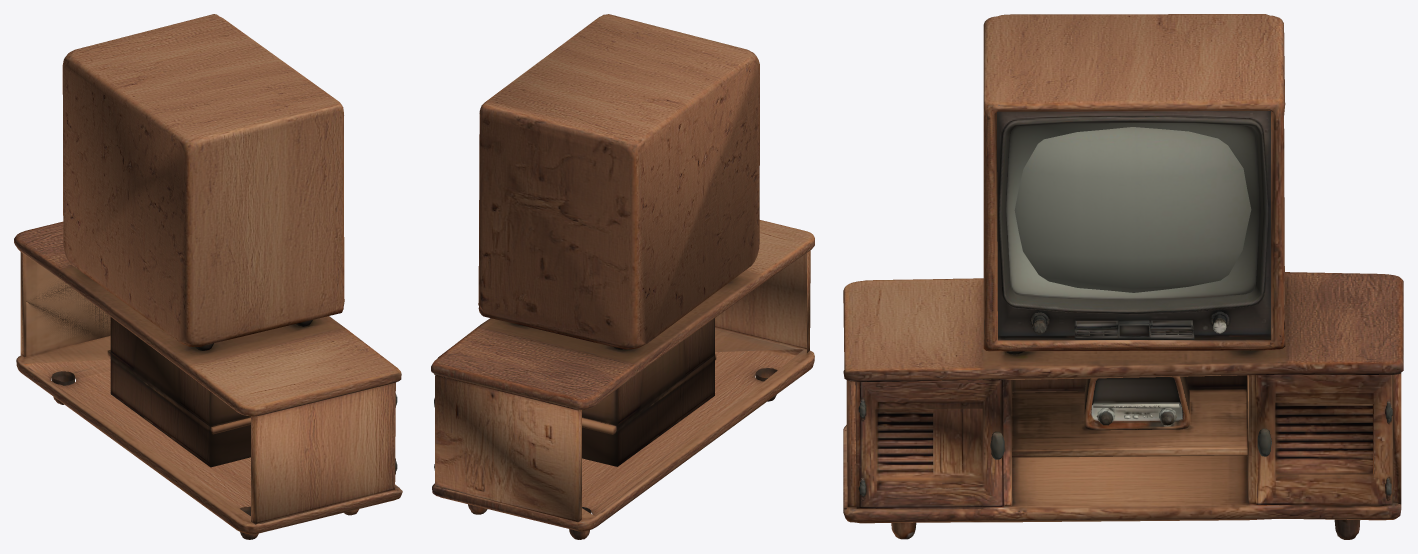
The model's file is prop-tv-console-v01.glb.
3 views of the same model, side by side, from view 1: azimuth 30°, elevation 25°; view 2: azimuth 150°, elevation 25°; view 3: azimuth 270°, elevation 25° (orthographic). The views are drawn at different scales.
Visible parts, largest first — view 1: tripo_node_2a2c740b-e0e5-4987-90a4-f9d3980b73a1; view 2: tripo_node_2a2c740b-e0e5-4987-90a4-f9d3980b73a1; view 3: tripo_node_2a2c740b-e0e5-4987-90a4-f9d3980b73a1.
Part boxes in pixels (<box>): tripo_node_2a2c740b-e0e5-4987-90a4-f9d3980b73a1: <box>14,14,402,539</box>; tripo_node_2a2c740b-e0e5-4987-90a4-f9d3980b73a1: <box>431,14,814,539</box>; tripo_node_2a2c740b-e0e5-4987-90a4-f9d3980b73a1: <box>843,14,1403,539</box>.
Size of the model in its own units: 0.6212 by 1.3 by 1.46.
Materials: 1 (1 with a texture image).
